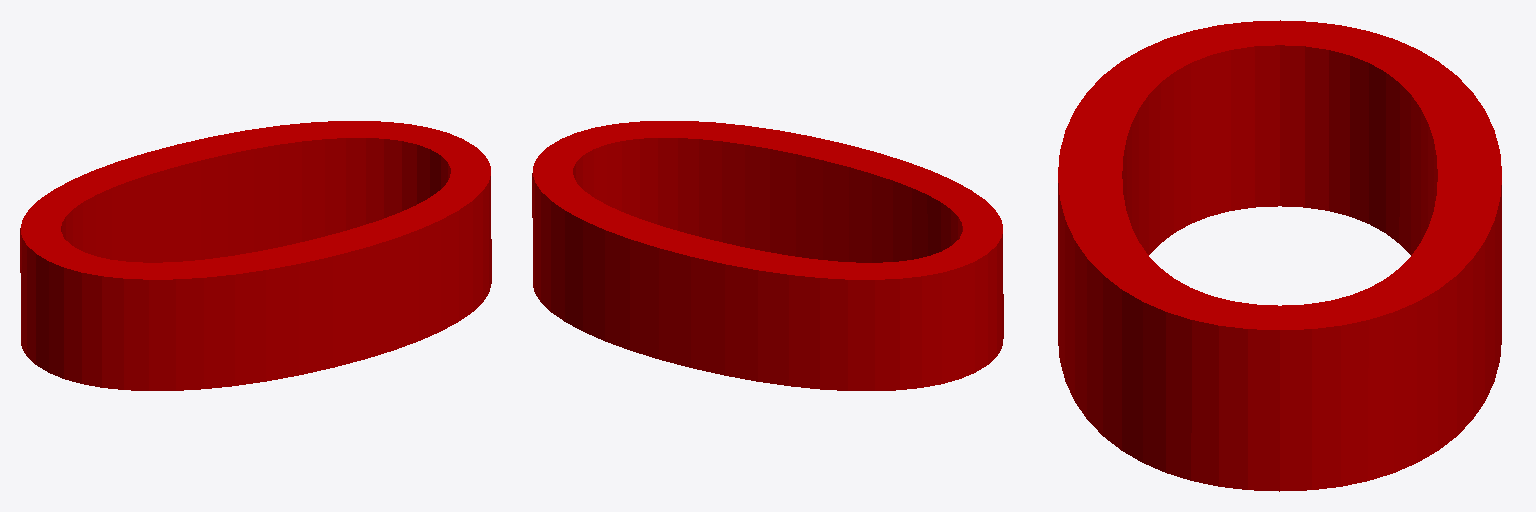
The robot description file, URDF, robot "number_0":
<?xml version="0.0" ?>
<robot name="number_0">
    <material name="RED">
        <color rgba="0.799103 0.003676 0.010960 1"/>
    </material>

    <link name="baseLink">
        <!-- from lego/lego.urdf -->
        <contact>
            <lateral_friction value="1.0"/>
            <rolling_friction value="0.0"/>
            <contact_cfm value="0.0"/>
            <contact_erp value="1.0"/>
        </contact>
        <inertial>
            <origin rpy="0 0 0" xyz="0 0 0"/>
            <mass value="0.01"/>
            <inertia ixx="1" ixy="0" ixz="0" iyy="1" iyz="0" izz="1"/>
        </inertial>
        <visual>
            <origin rpy="1.57 0 0" xyz="0 0 0"/>
            <geometry>
                <!--        radius: 10mm, depth: 14.5mm-->
                <mesh filename="meshes/number_0.obj" scale="0.025 0.025 0.025"/>
                <!--        <box size="0.002 0.002 0.002"/>-->
            </geometry>
            <material name="RED"/>
        </visual>
        <collision>
            <origin rpy="1.57 0 0" xyz="0 0 0"/>
            <geometry>
                <mesh filename="meshes/number_0_vhacd.obj" scale="0.025 0.025 0.025"/>
                       <!-- <box size="0.002 0.002 0.002"/> -->
            </geometry>
        </collision>
    </link>

    <link name="waypoint_0">
        <!--    origin-->
        <inertial>
            <origin rpy="0 0 0" xyz="0 0 0"/>
            <mass value=".0"/>
            <inertia ixx="0." ixy="0" ixz="0" iyy="0." iyz="0" izz="0."/>
        </inertial>
    </link>

    <joint name="waypoint_joint_0" type="fixed">
        <parent link="baseLink"/>
        <child link="waypoint_0"/>
        <origin rpy="0 0 1.57" xyz="0 0.02 0.03"/>
    </joint>

    <link name="waypoint_1">
        <!--    origin-->
        <inertial>
            <origin rpy="0 0 0" xyz="0 0 0"/>
            <mass value=".0"/>
            <inertia ixx="0." ixy="0" ixz="0" iyy="0." iyz="0" izz="0."/>
        </inertial>
    </link>

    <joint name="waypoint_joint_1" type="fixed">
        <parent link="baseLink"/>
        <child link="waypoint_1"/>
        <origin rpy="0 0 1.57" xyz="0 0.05 0.15"/>
    </joint>

</robot>

--- Render facts (derived) ---
Views: 3 orthographic renders of the robot side by side, from view 1: azimuth 30°, elevation 25°; view 2: azimuth 150°, elevation 25°; view 3: azimuth 270°, elevation 25°.
Model number_0 with 3 links and 2 joints (2 fixed), rooted at baseLink, posed every joint at zero.
Visible links, largest first — view 1: baseLink; view 2: baseLink; view 3: baseLink.
Boxes of the visible links, box(x1,y1,x2,y2) form: baseLink: box(20, 121, 491, 390); baseLink: box(532, 121, 1003, 390); baseLink: box(1058, 20, 1501, 491).
Size in the robot's own frame: 0.066 by 0.04 by 0.016 metres.
Meshes: 1 distinct files referenced, 1 mesh visuals loaded (1 OBJ).